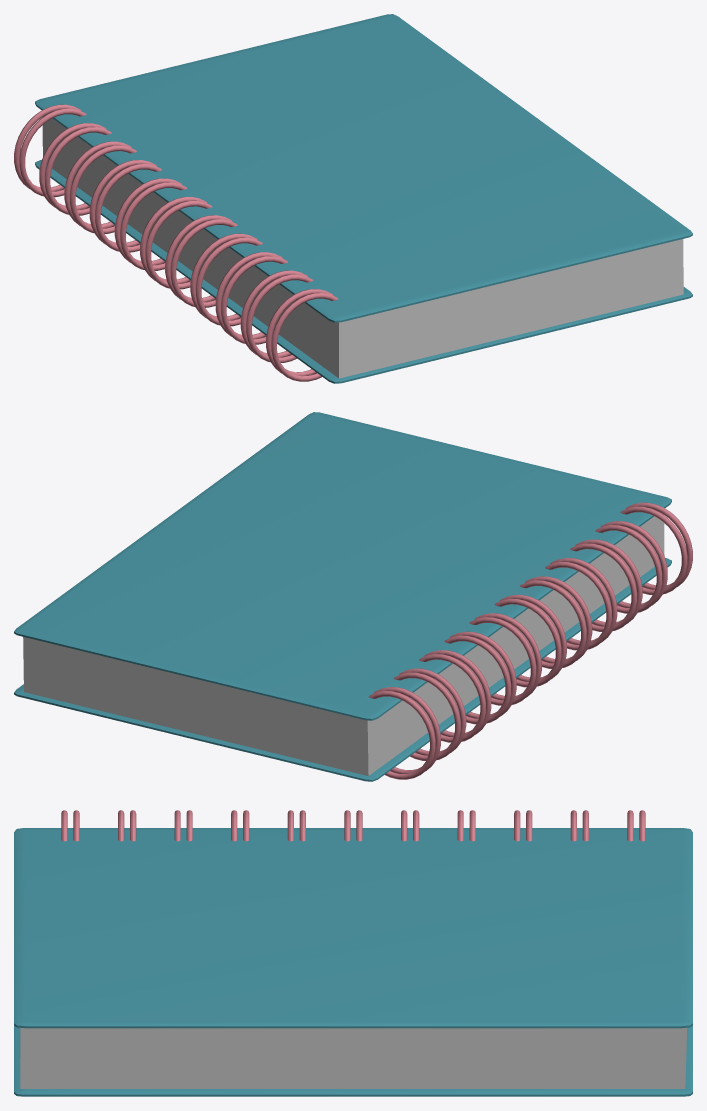
File: 스프링노트.fbx
3 renders of one model, top to bottom at view 1: azimuth 30°, elevation 25°; view 2: azimuth 150°, elevation 25°; view 3: azimuth 270°, elevation 25°, orthographic. The views are drawn at different scales.
Visible parts, largest first — view 1: notebook_with_springs.001; view 2: notebook_with_springs.001; view 3: notebook_with_springs.001.
Part boxes in pixels (x1,y1,x2,y2): notebook_with_springs.001: (14,14,692,383); notebook_with_springs.001: (14,412,692,781); notebook_with_springs.001: (14,810,692,1096).
Bounding box in the file's own units: 1570 × 322 × 2047.
